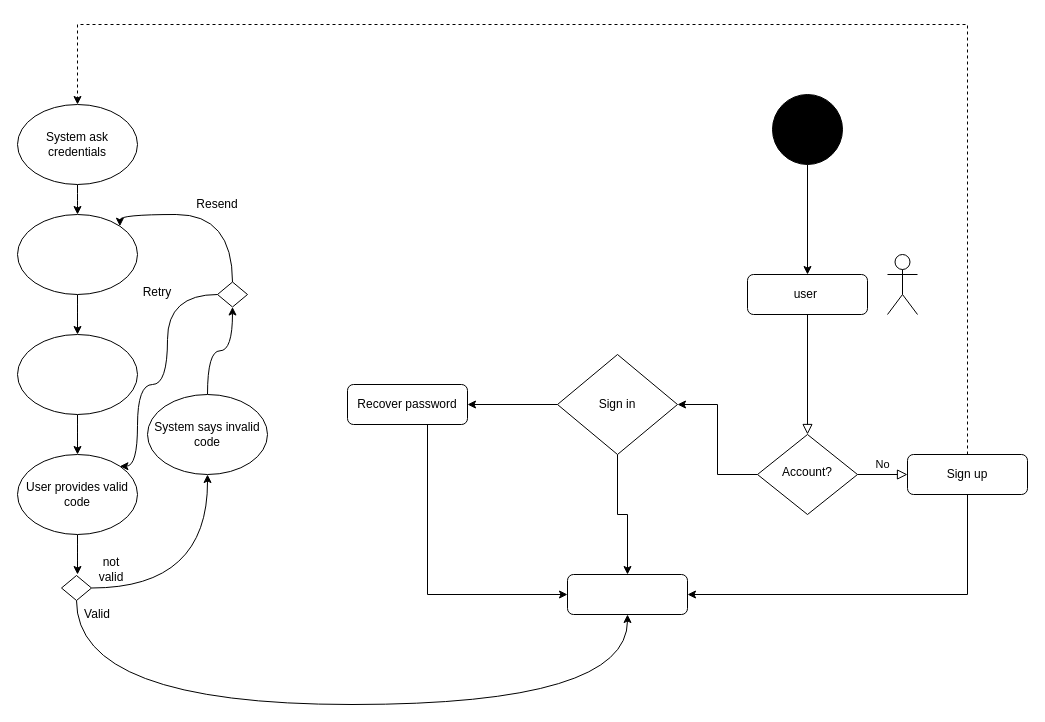
The diagram is 1045 pixels wide and 722 high, and some of its shapes have lost their labels. The box of each missing label's shape, as (x1, y1, x2, y2) in pixels:
Actor: (886, 254, 918, 314)
Connected: (566, 574, 688, 614)
System send mail comfirmation: (16, 334, 138, 414)
User input: (16, 214, 138, 294)
